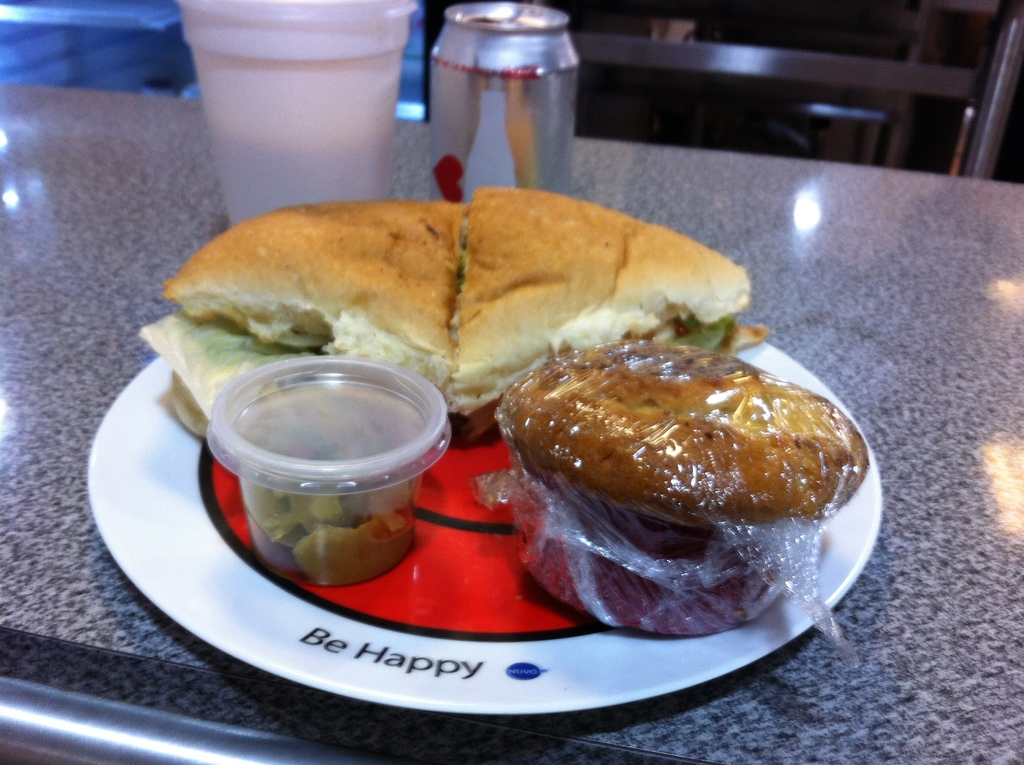Hamburger: (138, 184, 769, 441)
